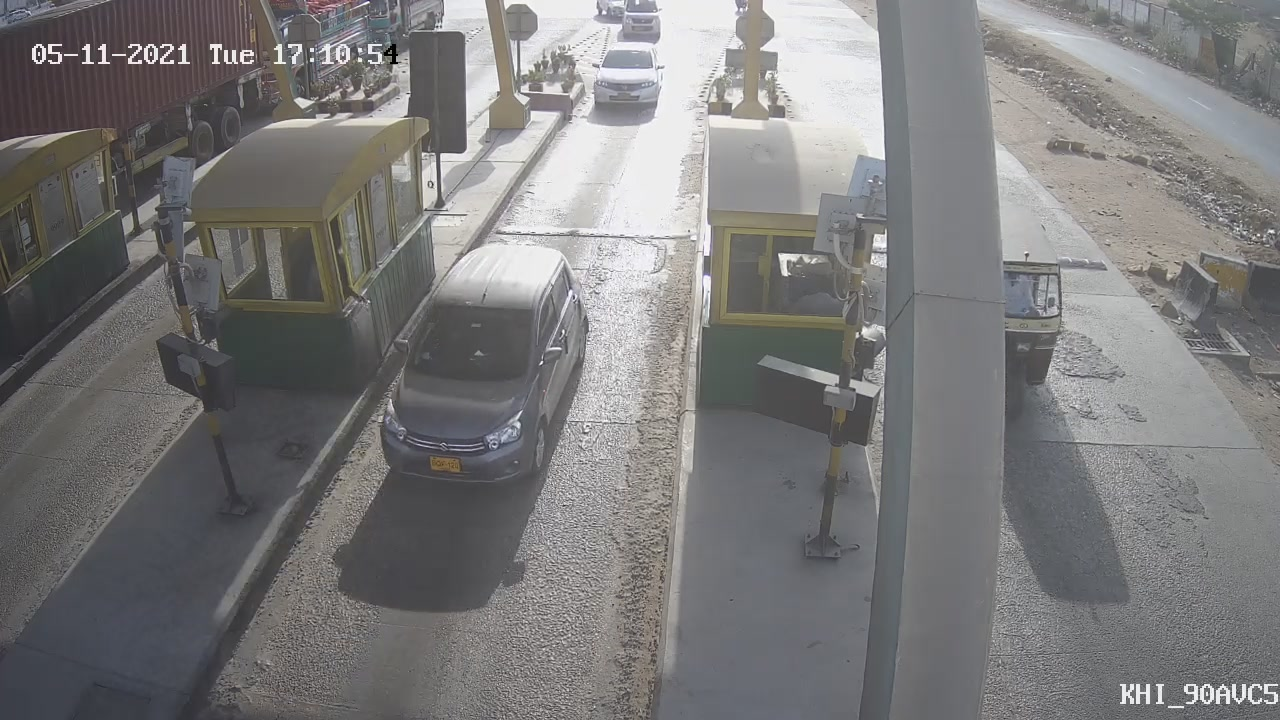F1: (351, 225, 608, 513), (577, 29, 676, 124)
